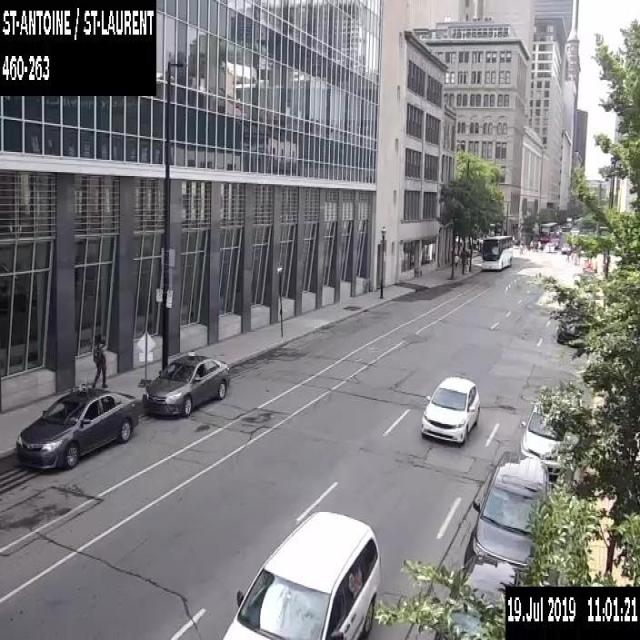bus: (480, 232, 512, 269), (539, 221, 557, 240)
construction: (134, 330, 156, 388), (581, 258, 597, 272)
pedestrian: (90, 332, 109, 387), (565, 246, 569, 261), (519, 241, 523, 254), (533, 238, 537, 251), (529, 238, 533, 251)
vehicle: (221, 508, 380, 639), (463, 449, 551, 577), (13, 385, 137, 471), (433, 552, 523, 638), (141, 351, 230, 416), (420, 374, 480, 446), (519, 400, 565, 475), (561, 242, 571, 253), (544, 241, 554, 252), (550, 236, 559, 248), (536, 239, 542, 250)
